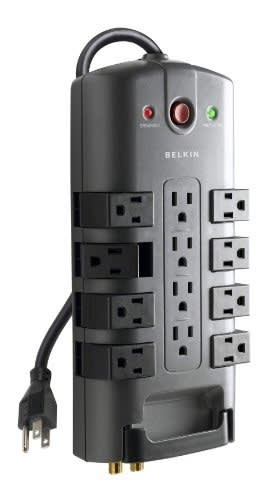Three_eye_plug: (63, 46, 259, 483)
